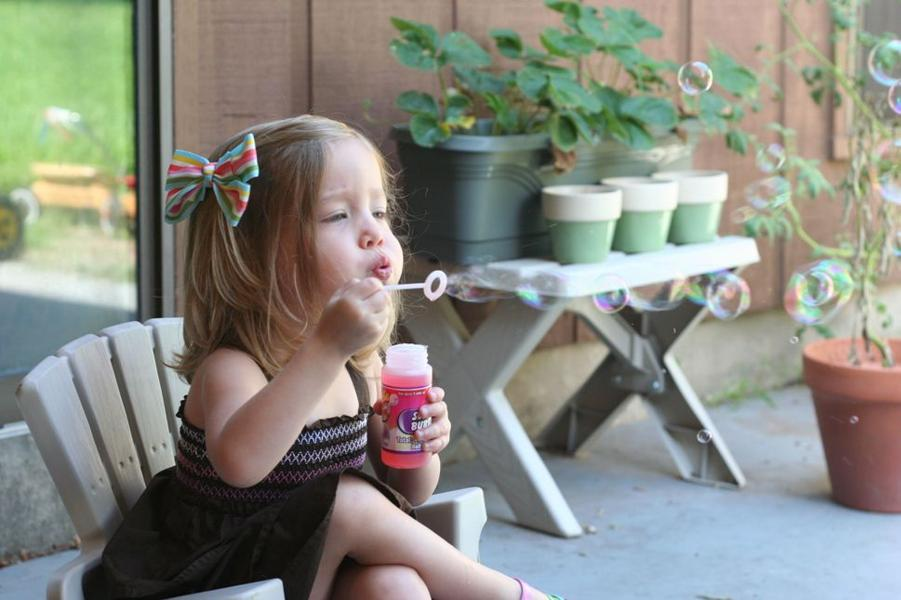person: (74, 110, 568, 600)
